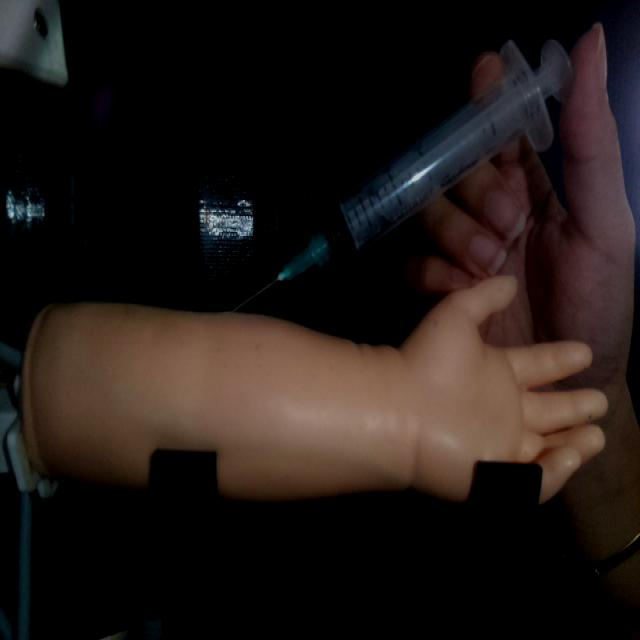Above 30 degrees: (227, 34, 574, 314)
